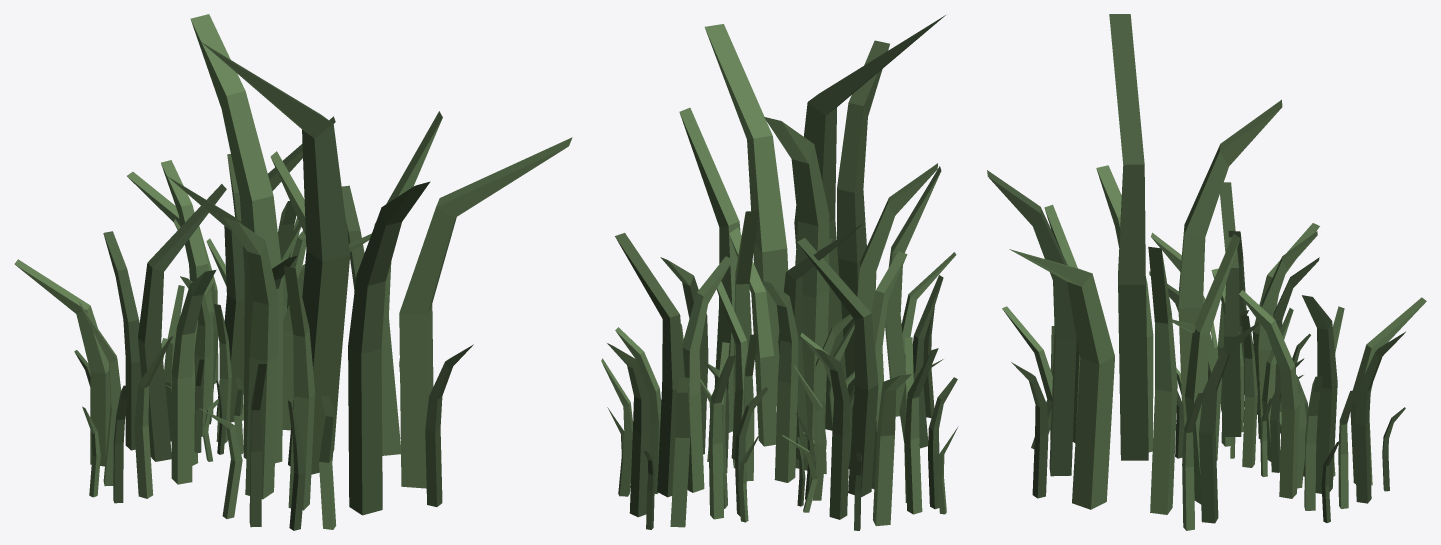
The model's file is grassSmallPatches.fbx.
3 views of the same model, side by side, from view 1: azimuth 30°, elevation 25°; view 2: azimuth 150°, elevation 25°; view 3: azimuth 270°, elevation 25° (orthographic). The views are drawn at different scales.
Visible parts, largest first — view 1: patch2(medium), patch1(small); view 2: patch2(medium), patch1(small); view 3: patch2(medium), patch1(small).
Part boxes in pixels (x1,y1,x2,y2): patch2(medium): (14,14,572,530); patch1(small): (161,160,371,454); patch2(medium): (601,15,958,530); patch1(small): (700,223,863,482); patch2(medium): (987,14,1426,530); patch1(small): (1149,182,1317,476).
Size of the model in its own units: 114 by 135 by 128.
